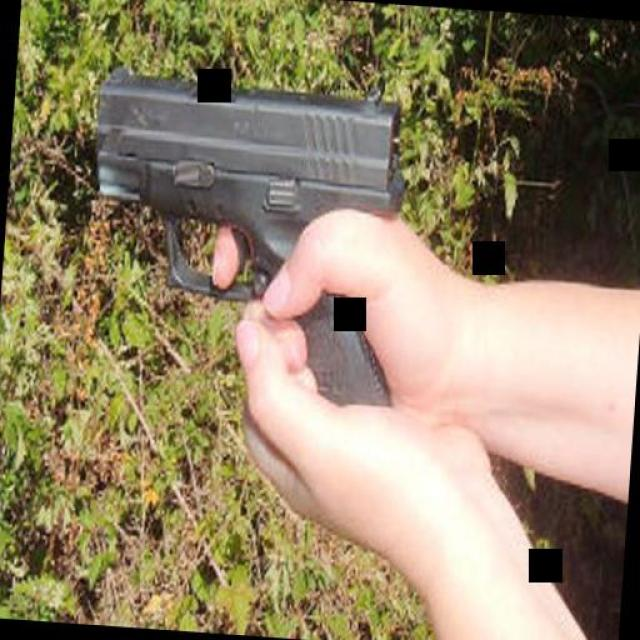gun: (74, 52, 416, 408)
